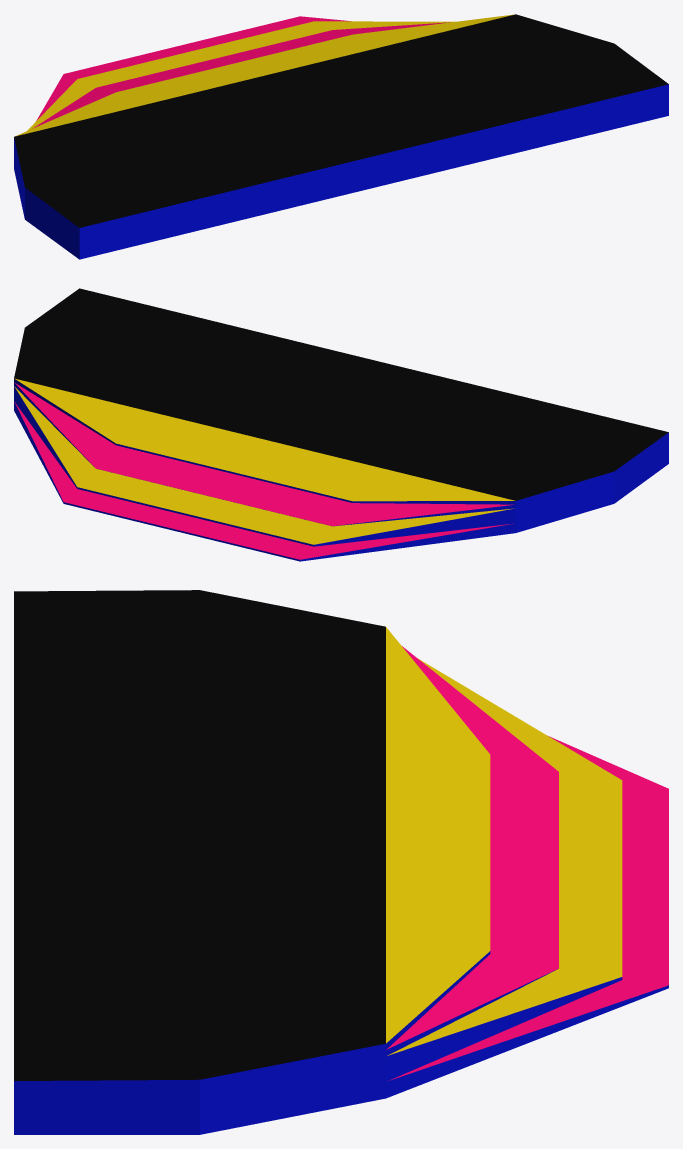
File: Stage_ver5.fbx
The picture shows the model from 3 angles, top to bottom: view 1: azimuth 30°, elevation 25°; view 2: azimuth 150°, elevation 25°; view 3: azimuth 270°, elevation 25°; orthographic projection. The views are drawn at different scales.
Visible parts, largest first — view 1: StageFloor; view 2: StageFloor; view 3: StageFloor.
Boxes of the visible parts, x1,y1,x2,y2 form: StageFloor: (14, 14, 668, 259); StageFloor: (14, 288, 668, 561); StageFloor: (14, 590, 668, 1134).
Bounding box in the file's own units: 498 × 26.14 × 282.
